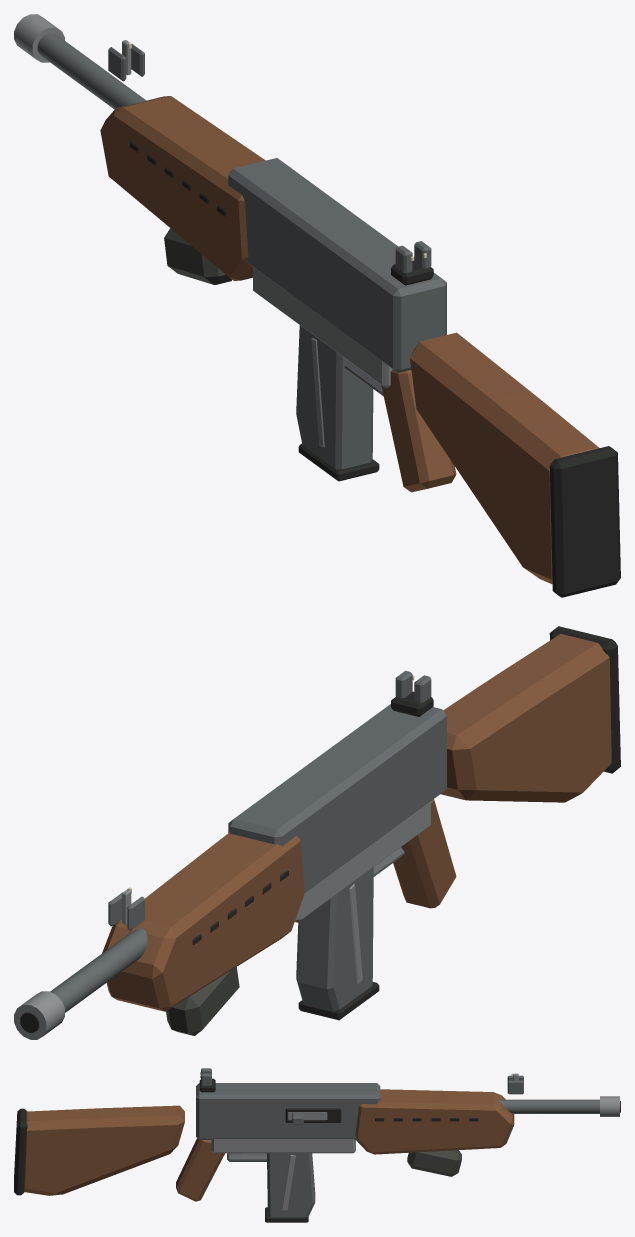
Rendered from carbine.glb.
The picture shows the model from 3 angles, top to bottom: view 1: azimuth 30°, elevation 25°; view 2: azimuth 150°, elevation 25°; view 3: azimuth 270°, elevation 25°; orthographic projection. The views are drawn at different scales.
Parts seen in each view (by area): view 1: Oiled walnut, Parkerized steel, Black rubber, Parkerized steel.002, Worn steel, Weathered polymer, Black rubber.001; view 2: Oiled walnut, Parkerized steel, Parkerized steel.002, Worn steel, Black rubber, Weathered polymer, Black rubber.001, Worn steel.002; view 3: Oiled walnut, Parkerized steel, Parkerized steel.002, Worn steel, Black rubber, Weathered polymer, Worn steel.002, Black rubber.001, Worn steel.001.
Part boxes in pixels (left/top/right/bottom): Oiled walnut: left=100, top=96, right=599, bottom=584; Parkerized steel: left=37, top=33, right=446, bottom=396; Black rubber: left=130, top=141, right=620, bottom=597; Parkerized steel.002: left=296, top=325, right=373, bottom=469; Worn steel: left=14, top=14, right=392, bottom=388; Weathered polymer: left=164, top=228, right=231, bottom=284; Black rubber.001: left=298, top=443, right=379, bottom=481; Oiled walnut: left=102, top=634, right=611, bottom=1011; Parkerized steel: left=50, top=670, right=446, bottom=1012; Parkerized steel.002: left=296, top=867, right=373, bottom=1011; Worn steel: left=14, top=801, right=430, bottom=1039; Black rubber: left=20, top=626, right=620, bottom=1032; Weathered polymer: left=166, top=967, right=239, bottom=1035; Black rubber.001: left=298, top=982, right=379, bottom=1020; Worn steel.002: left=349, top=884, right=362, bottom=984; Oiled walnut: left=23, top=1089, right=514, bottom=1201; Parkerized steel: left=196, top=1068, right=599, bottom=1161; Parkerized steel.002: left=267, top=1153, right=315, bottom=1217; Worn steel: left=211, top=1073, right=619, bottom=1154; Black rubber: left=14, top=1078, right=620, bottom=1195; Weathered polymer: left=407, top=1150, right=461, bottom=1176; Worn steel.002: left=281, top=1155, right=295, bottom=1210; Black rubber.001: left=265, top=1207, right=308, bottom=1222; Worn steel.001: left=287, top=1112, right=327, bottom=1120.
Size of the model in its own units: 0.0795 by 0.2485 by 0.9355.
